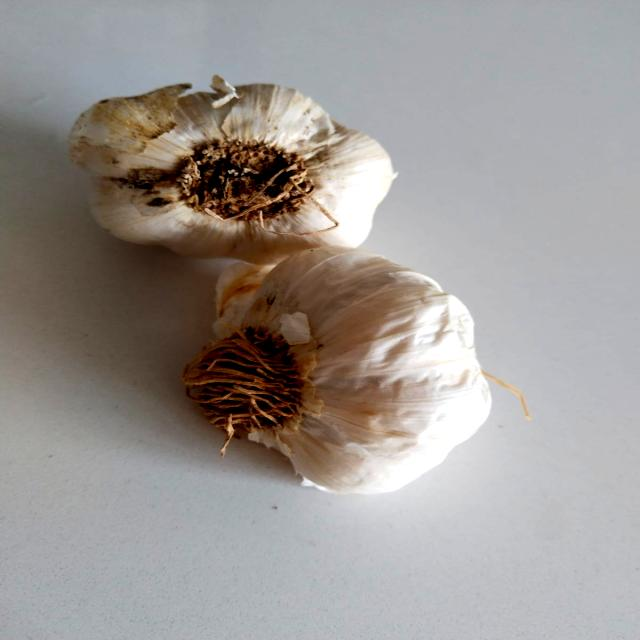garlic: (158, 225, 550, 501), (49, 54, 424, 257)
